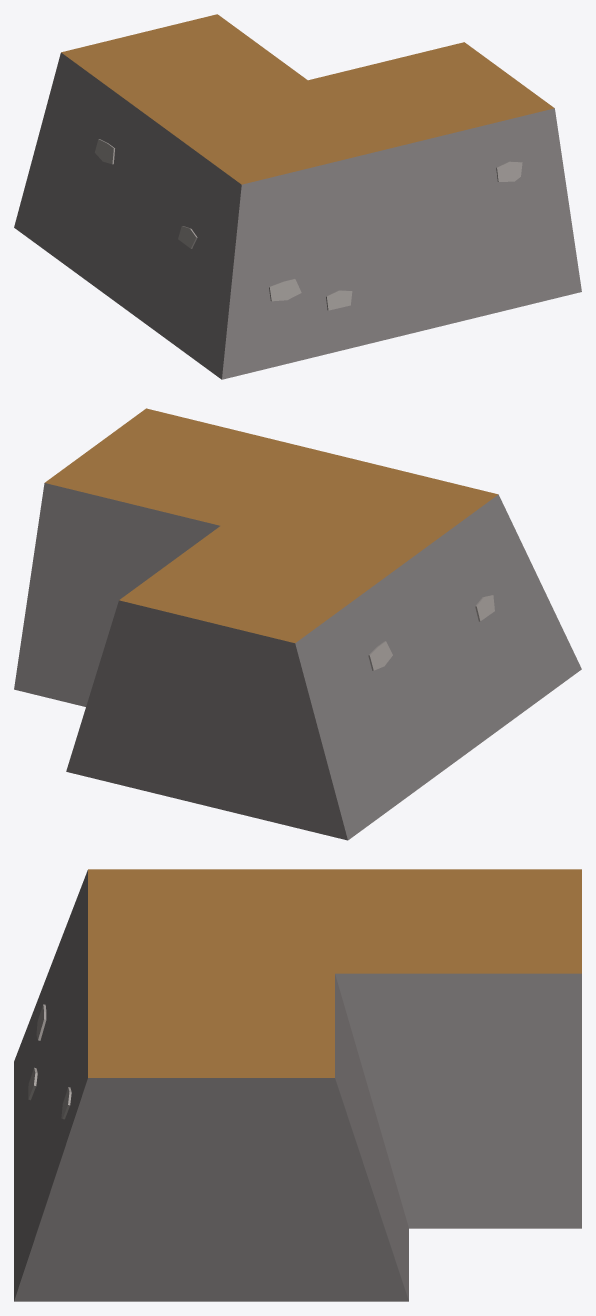
The model's file is japan_base-japan-edge_small.fbx.
3 views of the same model, one above another, from view 1: azimuth 30°, elevation 25°; view 2: azimuth 150°, elevation 25°; view 3: azimuth 270°, elevation 25° (orthographic). The views are drawn at different scales.
Parts seen in each view (by area): view 1: japan_base_japan_edge_small; view 2: japan_base_japan_edge_small; view 3: japan_base_japan_edge_small.
Part boxes in pixels (x1,y1,x2,y2): japan_base_japan_edge_small: (14,14,581,379); japan_base_japan_edge_small: (14,408,581,840); japan_base_japan_edge_small: (14,869,581,1301).
Size of the model in its own units: 200 by 86.94 by 200.
